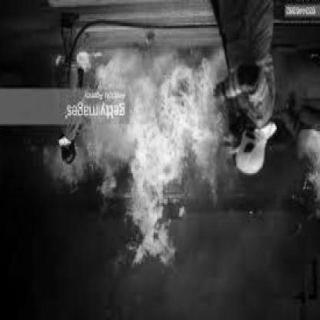Fire: (293, 130, 319, 217)
